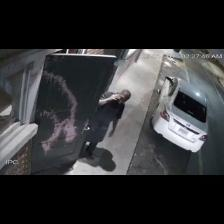person: (83, 90, 130, 158)
